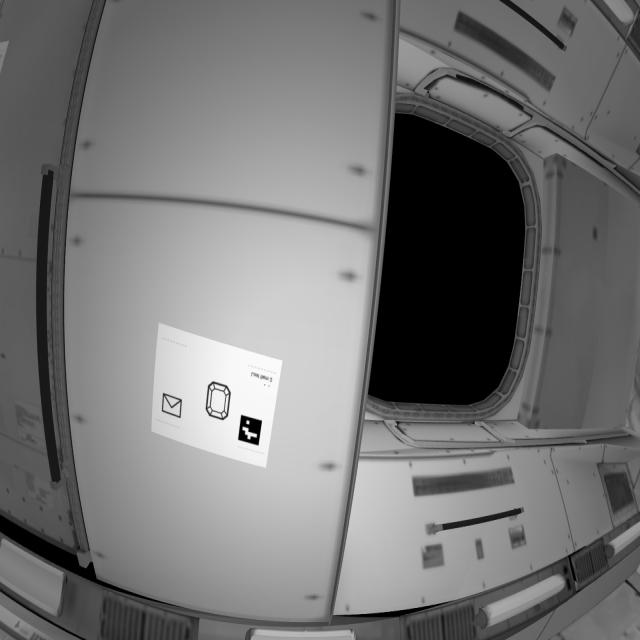emerald: (201, 375, 235, 426)
letter: (155, 385, 188, 425)
